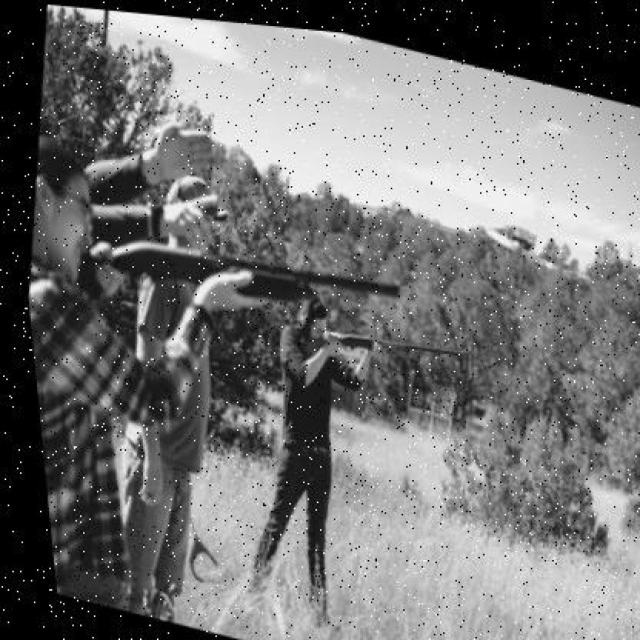weapon: (91, 240, 402, 305), (324, 331, 459, 356)
